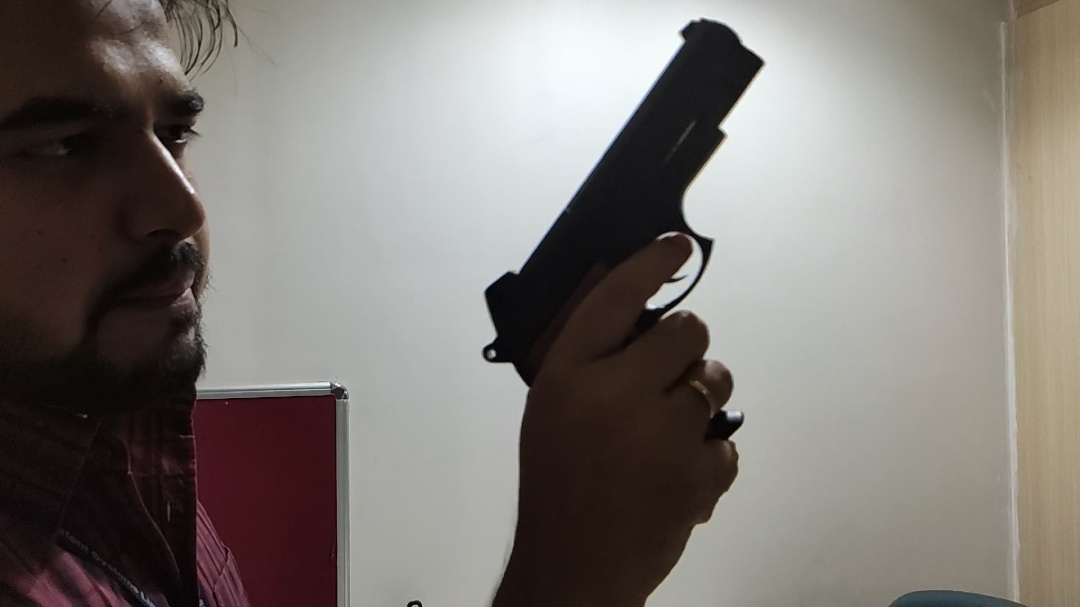gun: (481, 15, 768, 450)
